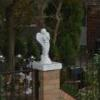Statue: (23, 18, 72, 83)
